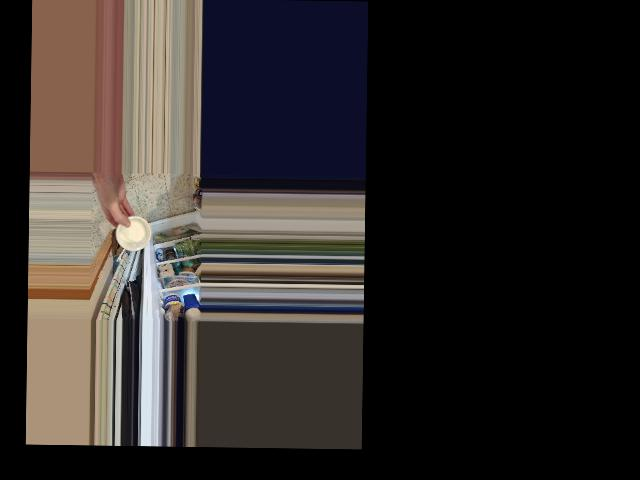cotage: (114, 217, 151, 253)
